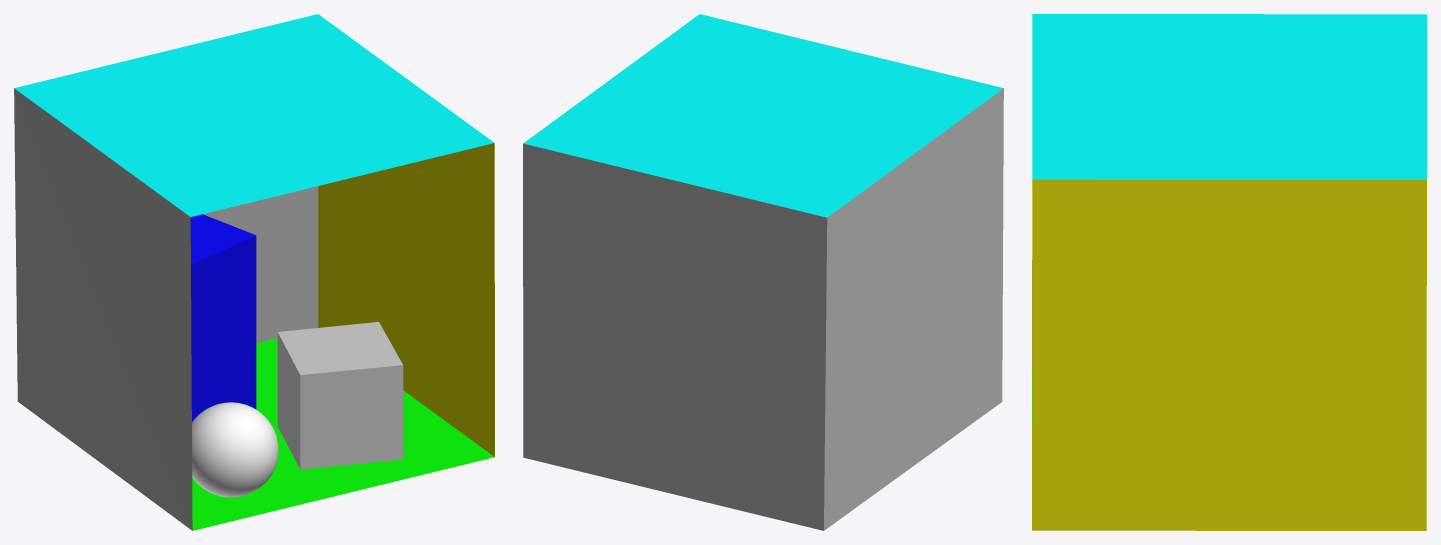
3 renders of one model, left to right at view 1: azimuth 30°, elevation 25°; view 2: azimuth 150°, elevation 25°; view 3: azimuth 270°, elevation 25°, orthographic. The views are drawn at different scales.
Parts seen in each view (by area): view 1: left_wall, ceiling.001, right_wall, short_box, floor, tall_box, back_wall, ceiling; view 2: back_wall, left_wall, ceiling.001; view 3: right_wall, ceiling.001.
Boxes of the visible parts, left/top/right/bottom form: left_wall: left=14, top=88, right=192, bottom=530; ceiling.001: left=14, top=14, right=494, bottom=216; right_wall: left=318, top=143, right=494, bottom=456; short_box: left=277, top=322, right=403, bottom=469; floor: left=192, top=338, right=494, bottom=530; tall_box: left=190, top=214, right=256, bottom=421; back_wall: left=203, top=186, right=318, bottom=343; ceiling: left=192, top=402, right=278, bottom=497; back_wall: left=523, top=143, right=827, bottom=530; left_wall: left=824, top=88, right=1003, bottom=530; ceiling.001: left=523, top=14, right=1003, bottom=217; right_wall: left=1032, top=179, right=1426, bottom=530; ceiling.001: left=1032, top=14, right=1426, bottom=179.
Size of the model in its own units: 5.56 by 5.49 by 5.6.
